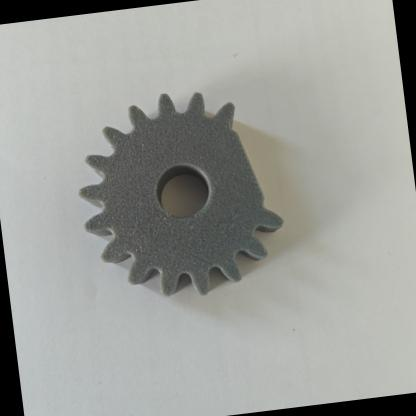defect: (198, 89, 316, 240)
gear: (51, 65, 332, 328)
